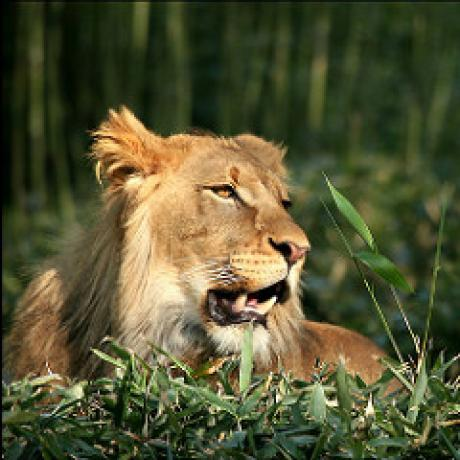Lion: (13, 106, 409, 402)
